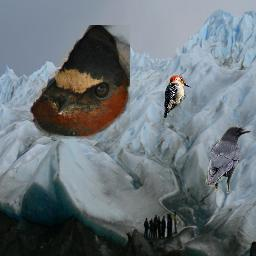Crow: (204, 126, 252, 193)
Swallow: (30, 25, 130, 139)
Woodpecker: (164, 75, 192, 118)
